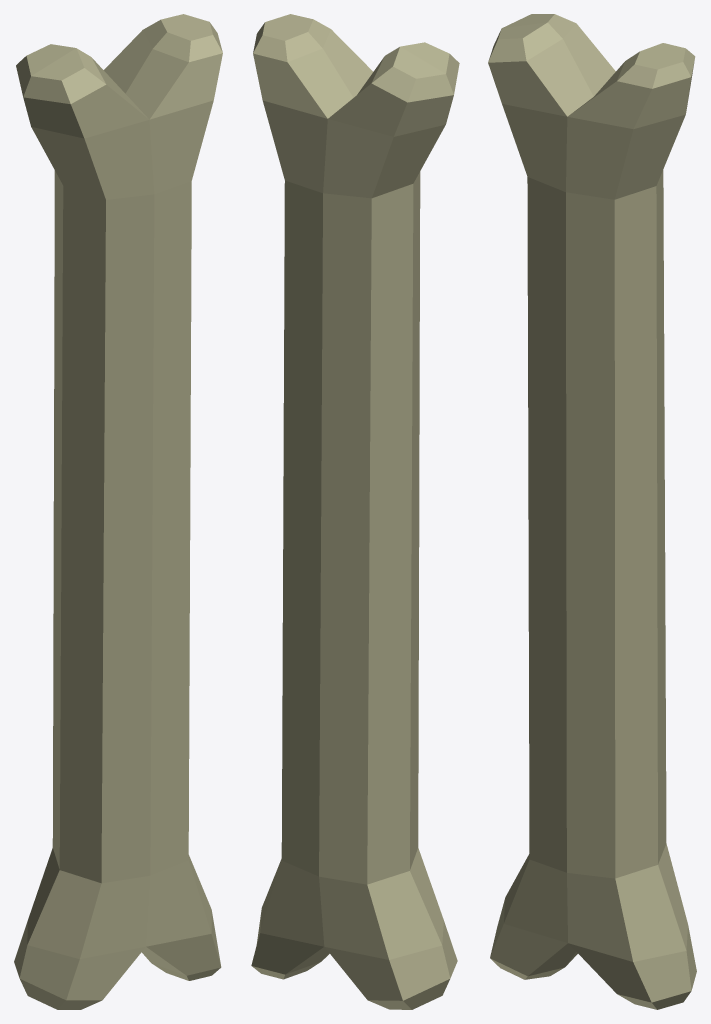
File: bone.fbx
3 renders of one model, left to right at view 1: azimuth 30°, elevation 25°; view 2: azimuth 150°, elevation 25°; view 3: azimuth 330°, elevation 25°, orthographic.
Visible parts, largest first — view 1: group2; view 2: group2; view 3: group2.
Part boxes in pixels (x1,y1,x2,y2): group2: [14, 14, 222, 1009]; group2: [251, 14, 459, 1009]; group2: [488, 14, 696, 1009].
Size of the model in its own units: 1.16 by 5.42 by 0.6498.
